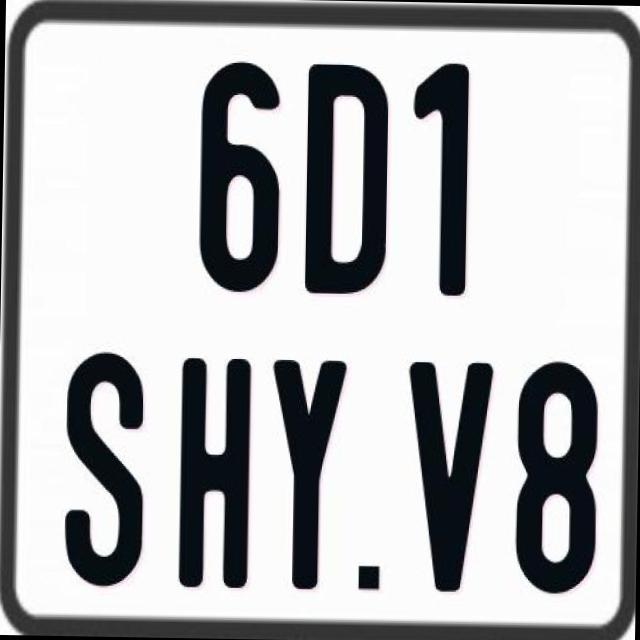1: (409, 62, 476, 297)
6: (195, 59, 285, 294)
8: (511, 359, 601, 598)
D: (300, 59, 386, 299)
H: (177, 356, 257, 592)
S: (60, 348, 144, 580)
V: (406, 358, 496, 596)
Y: (267, 355, 349, 594)
